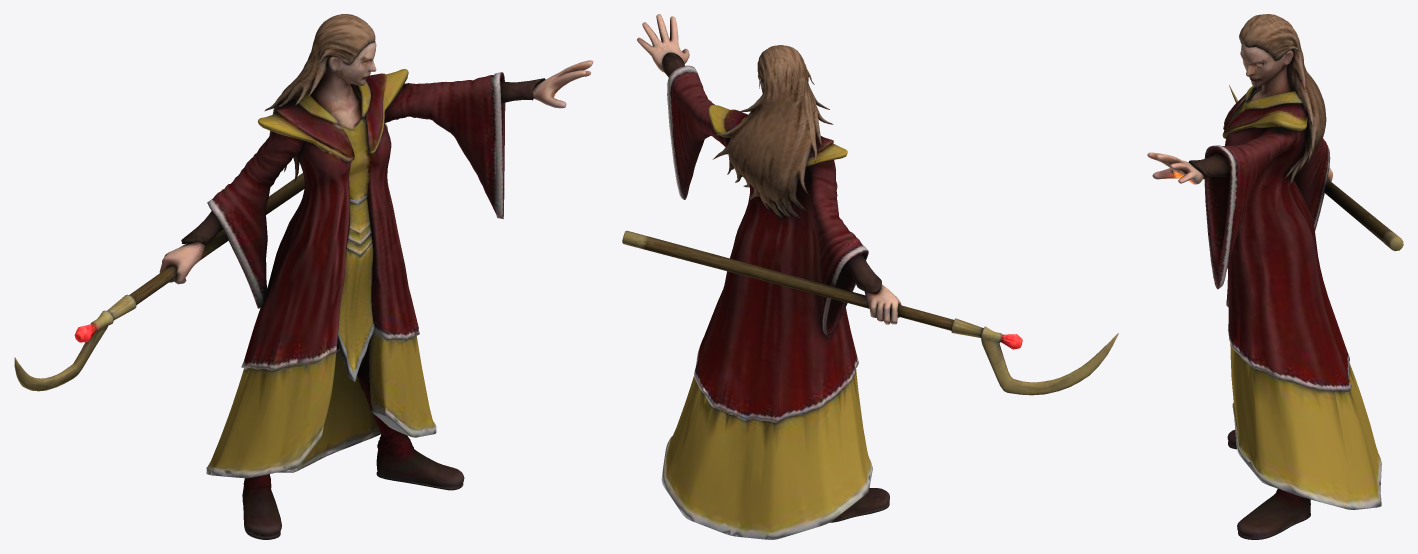
The model's file is MZ4250 - Human Female Evocation Wizard_1.glb.
3 renders of one model, left to right at view 1: azimuth 30°, elevation 25°; view 2: azimuth 150°, elevation 25°; view 3: azimuth 270°, elevation 25°, orthographic. The views are drawn at different scales.
Visible parts, largest first — view 1: Body.001; view 2: Body.001; view 3: Body.001.
Part boxes in pixels (x1,y1,x2,y2): Body.001: (14, 14, 593, 539); Body.001: (622, 14, 1118, 539); Body.001: (1147, 14, 1403, 539).
Bounding box in the file's own units: 1.11 × 0.938 × 0.4577.
Materials: 1 (1 with a texture image).
